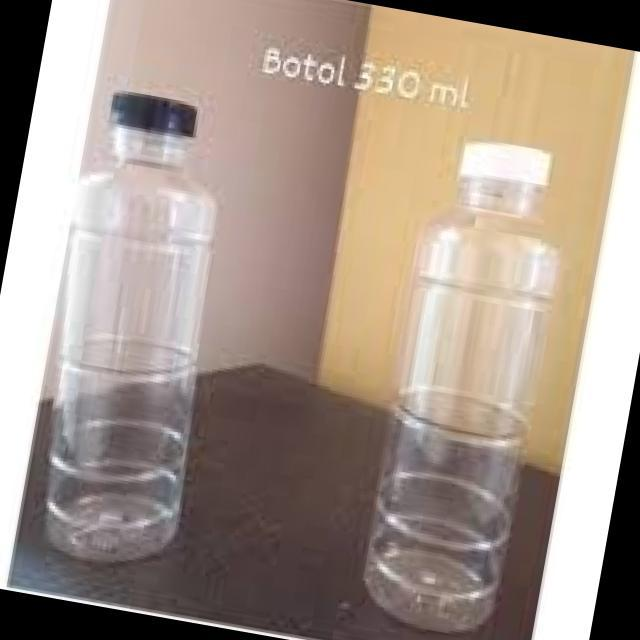good: (321, 111, 604, 640), (9, 59, 284, 588)
